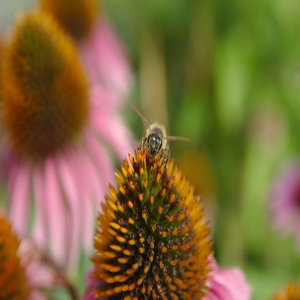bee: (130, 99, 192, 176)
